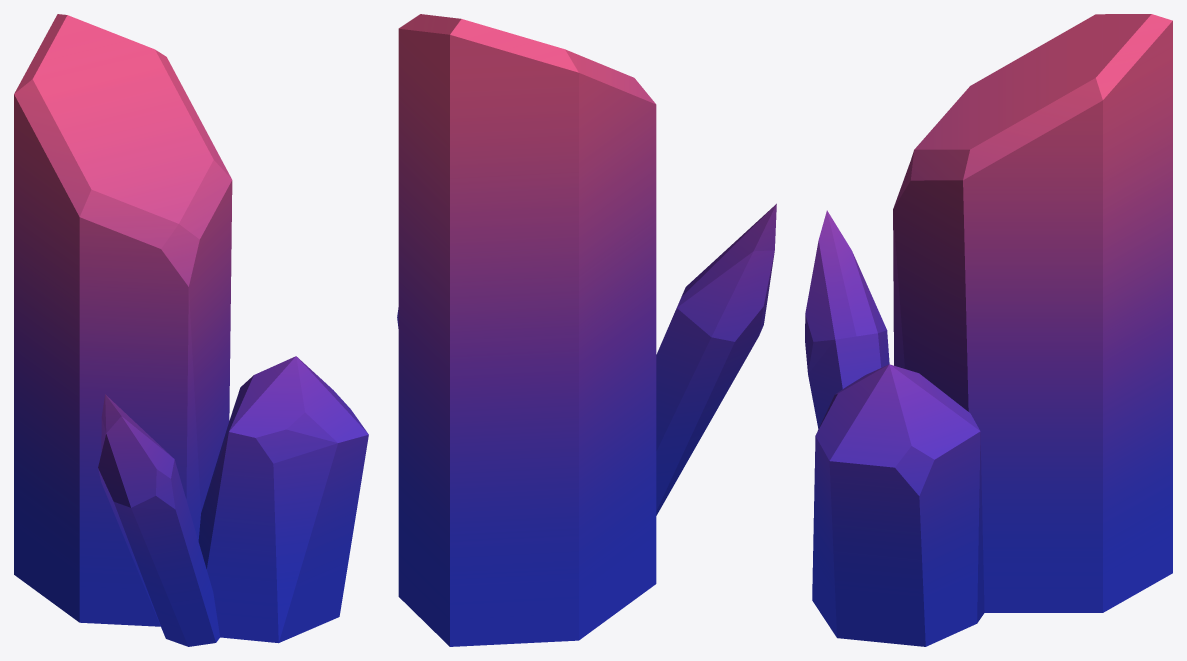
File: Crystal_5.1.fbx
3 renders of one model, left to right at view 1: azimuth 30°, elevation 25°; view 2: azimuth 150°, elevation 25°; view 3: azimuth 270°, elevation 25°, orthographic. The views are drawn at different scales.
Visible parts, largest first — view 1: Crystal_03.1; view 2: Crystal_03.1; view 3: Crystal_03.1.
Boxes of the visible parts, x1=… form: Crystal_03.1: x1=14, y1=14, x2=368, y2=646; Crystal_03.1: x1=397, y1=14, x2=776, y2=646; Crystal_03.1: x1=805, y1=14, x2=1172, y2=646.
Bounding box in the file's own units: 21.65 × 39 × 23.25.
